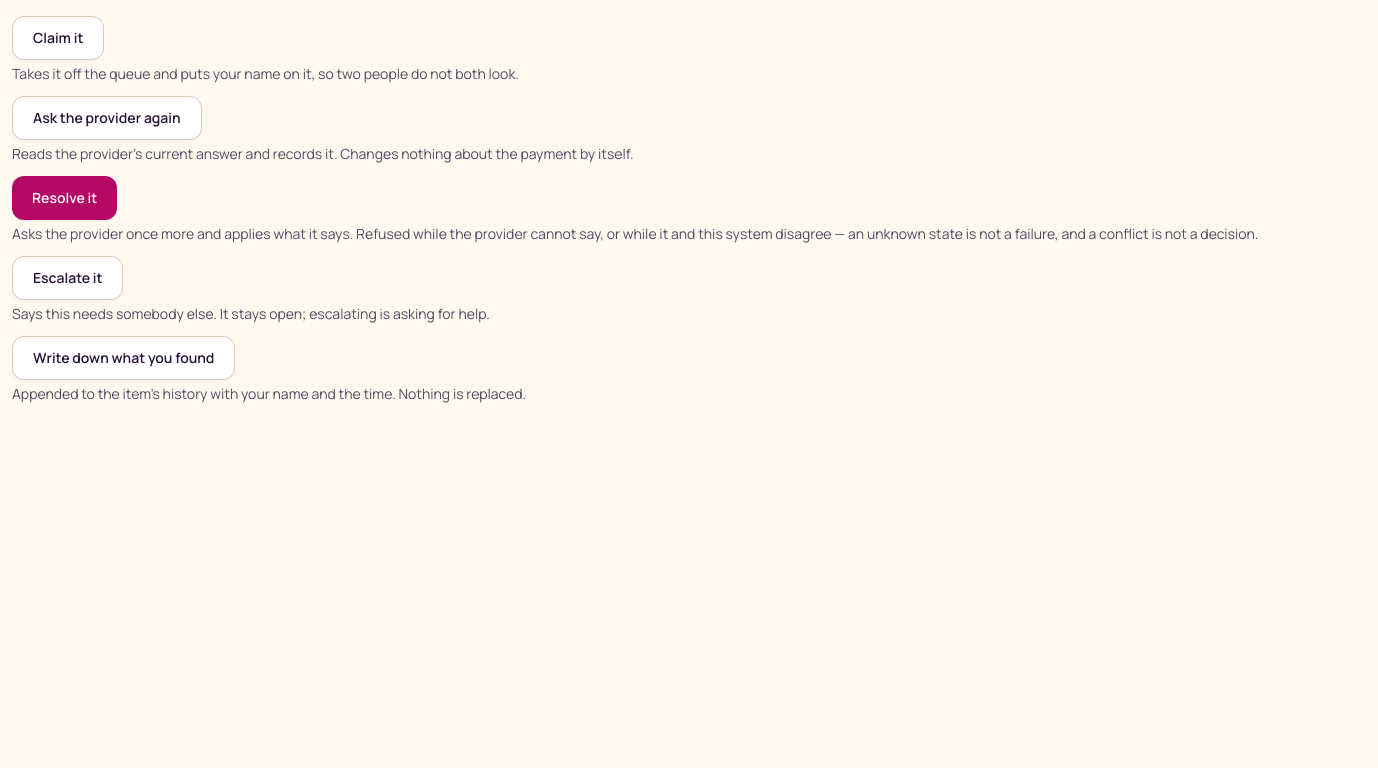
sending an action › repeats the provider’s reason when a resolve is refused
Click the button "Resolve it" at point(65, 198), box [12,176,117,220]
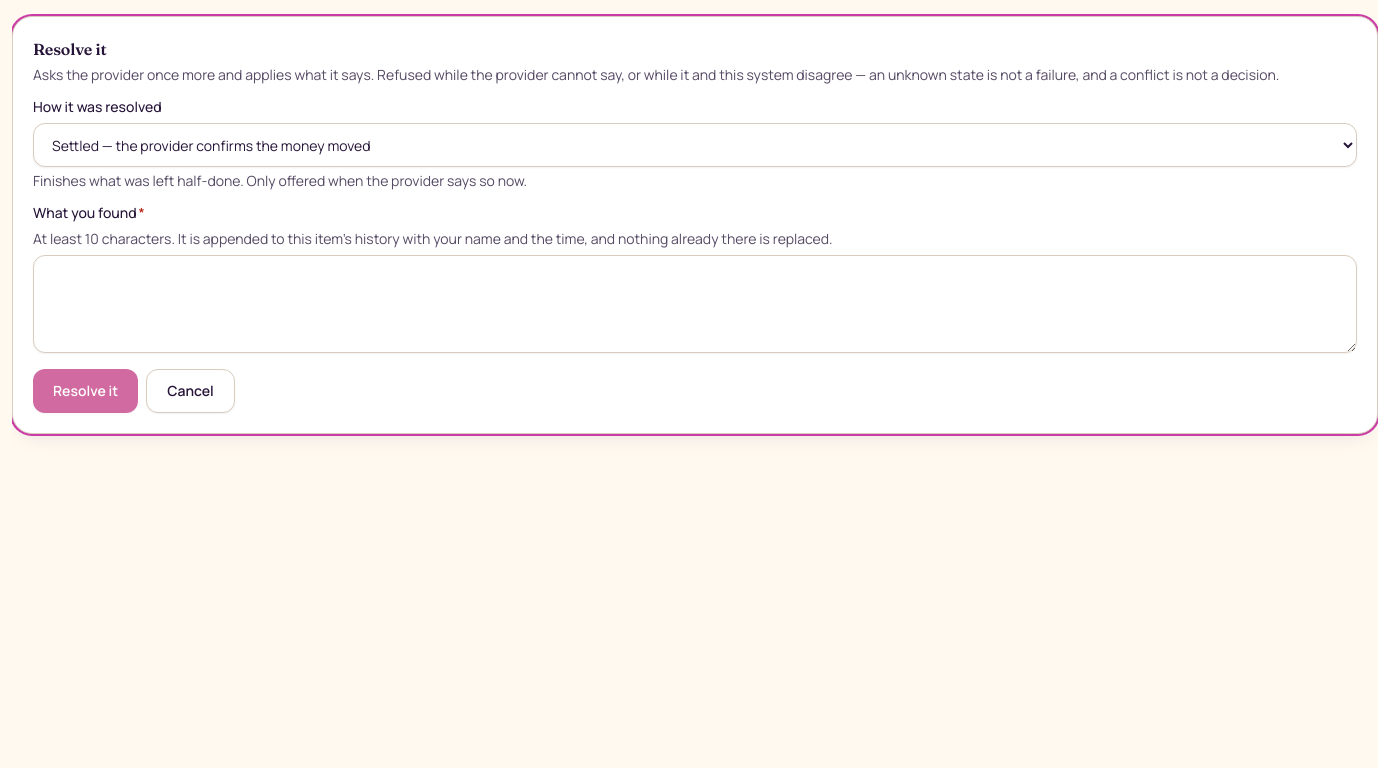
Type "Looks settled to me." into the text box at point(695, 304), box [33,255,1357,353]
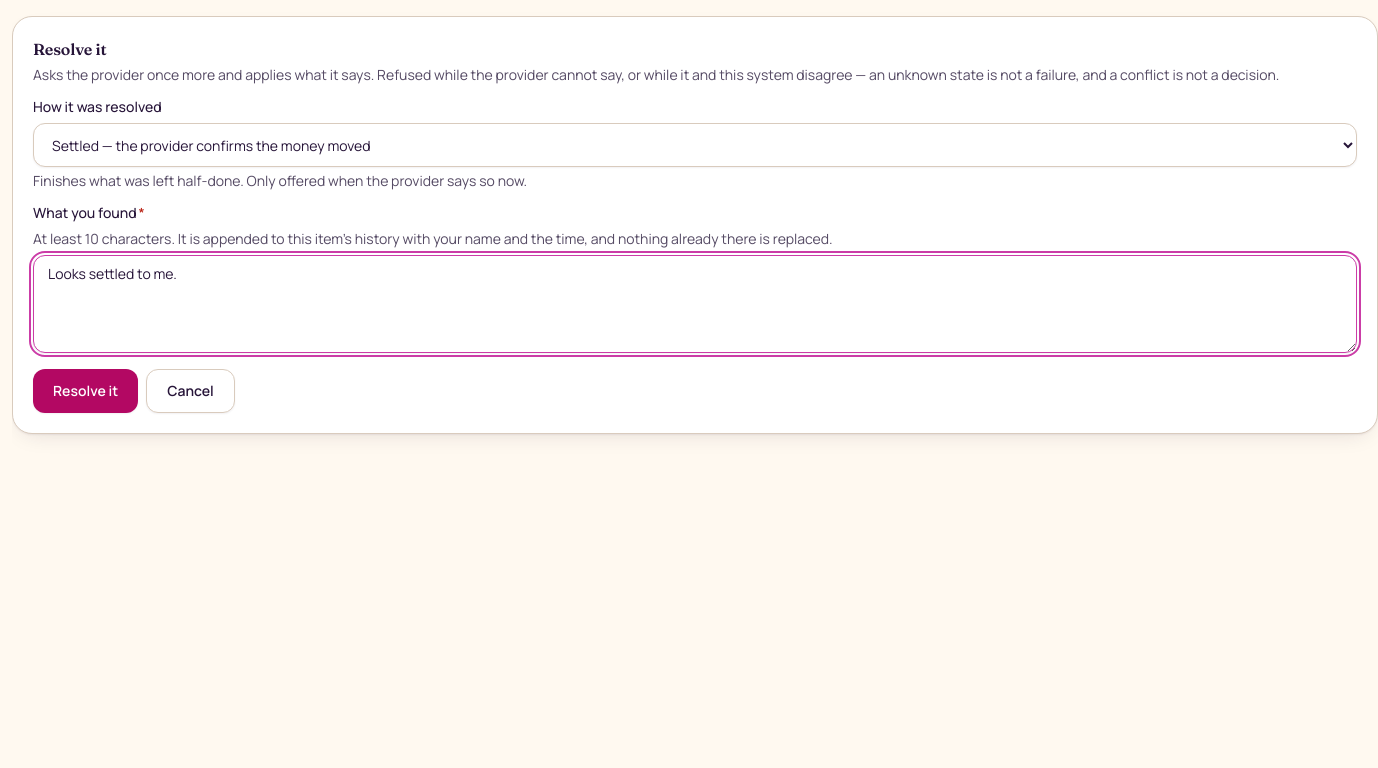
Click the button "Resolve it" at point(86, 391), box [33,369,138,413]
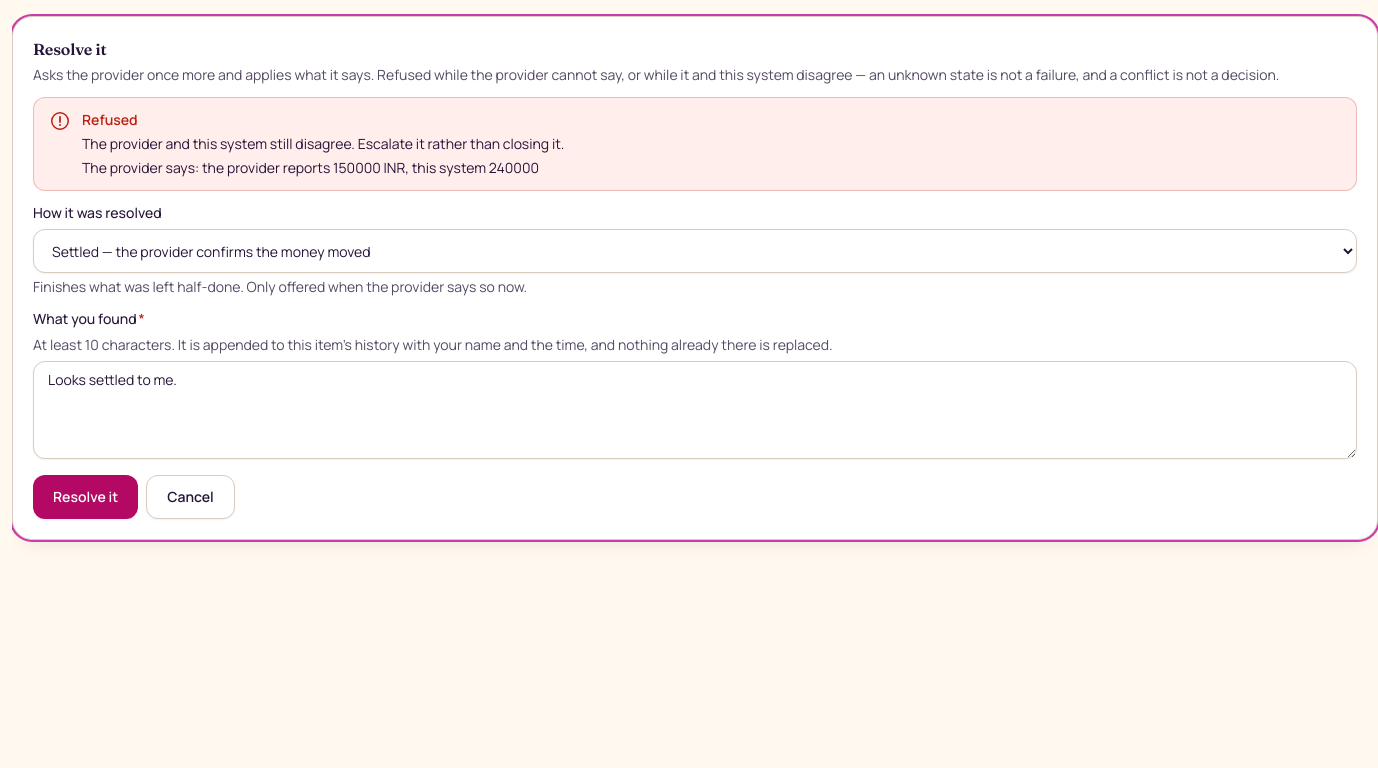
Result: the text "still disagree" is shown at [82,134,564,153]
Result: the text "150000 INR" is shown at [202,158,539,177]
